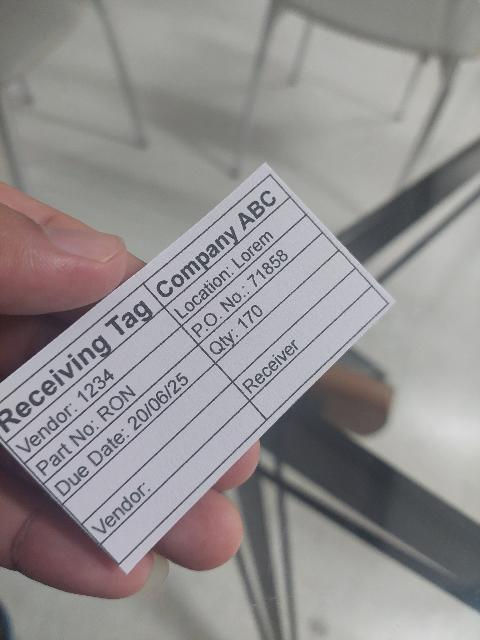PO no: (182, 215, 322, 344)
part no: (25, 325, 199, 482)
qty: (200, 234, 340, 364)
tags: (0, 165, 394, 576)
